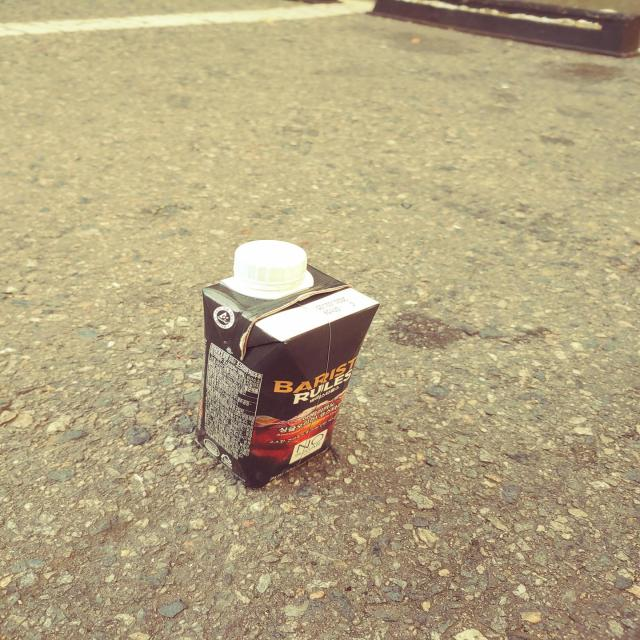paperpack: (197, 240, 379, 488)
